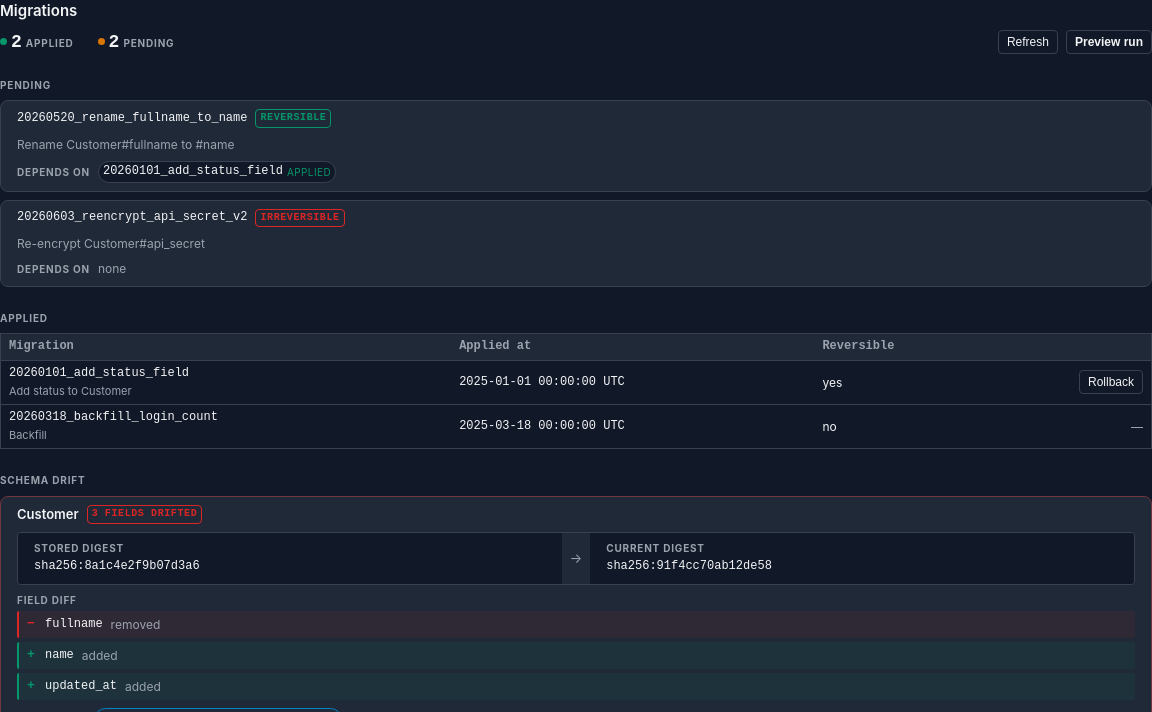
Scenario: dry-run preview renders the plan › Preview run -> POST run?dry_run=true -> renders would_run and the plan
Expected: the table with test id "migrations-applied-table" is shown, [0,333,1151,449]
Click the button with test id "migrations-preview-run": (1109, 42) [1066,30,1151,54]
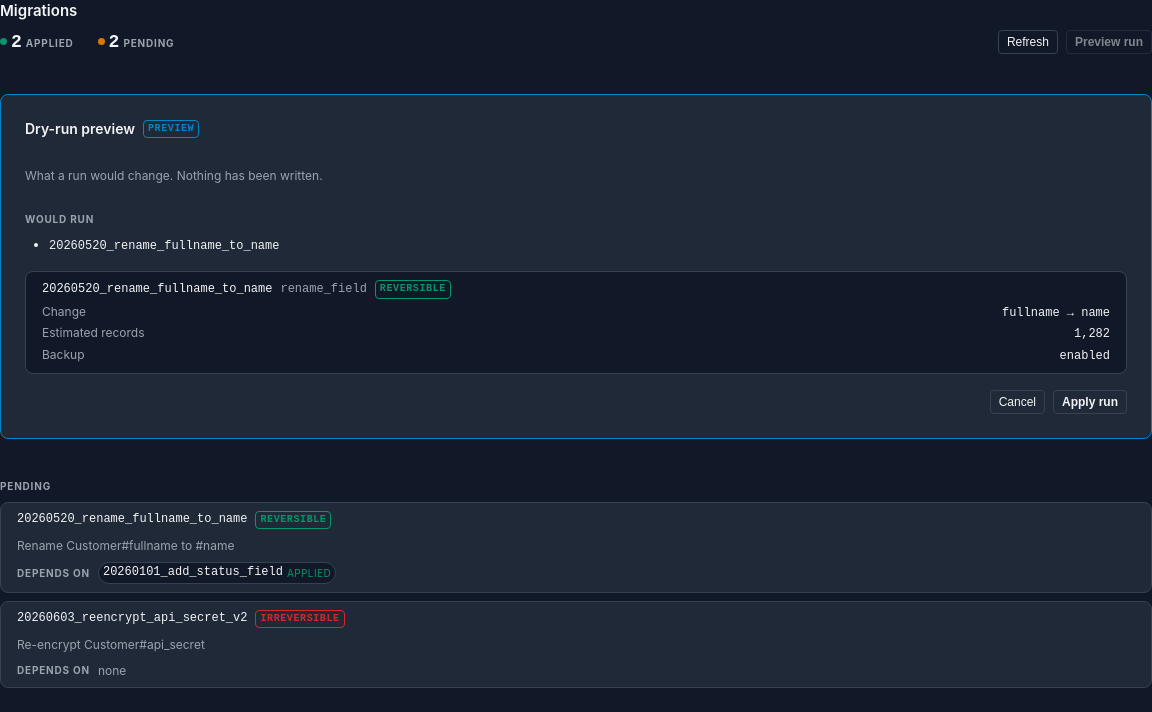
Expected: the element with test id "migrations-wouldrun" shows "20260520_rename_fullname_to_name", [49,239,279,253]
Expected: the element with test id "migrations-plan-20260520_rename_fullname_to_name" shows "rename_field", [280,282,367,296]
Expected: the element with test id "migrations-plan-20260520_rename_fullname_to_name" shows "fullname → name", [1002,306,1110,320]
